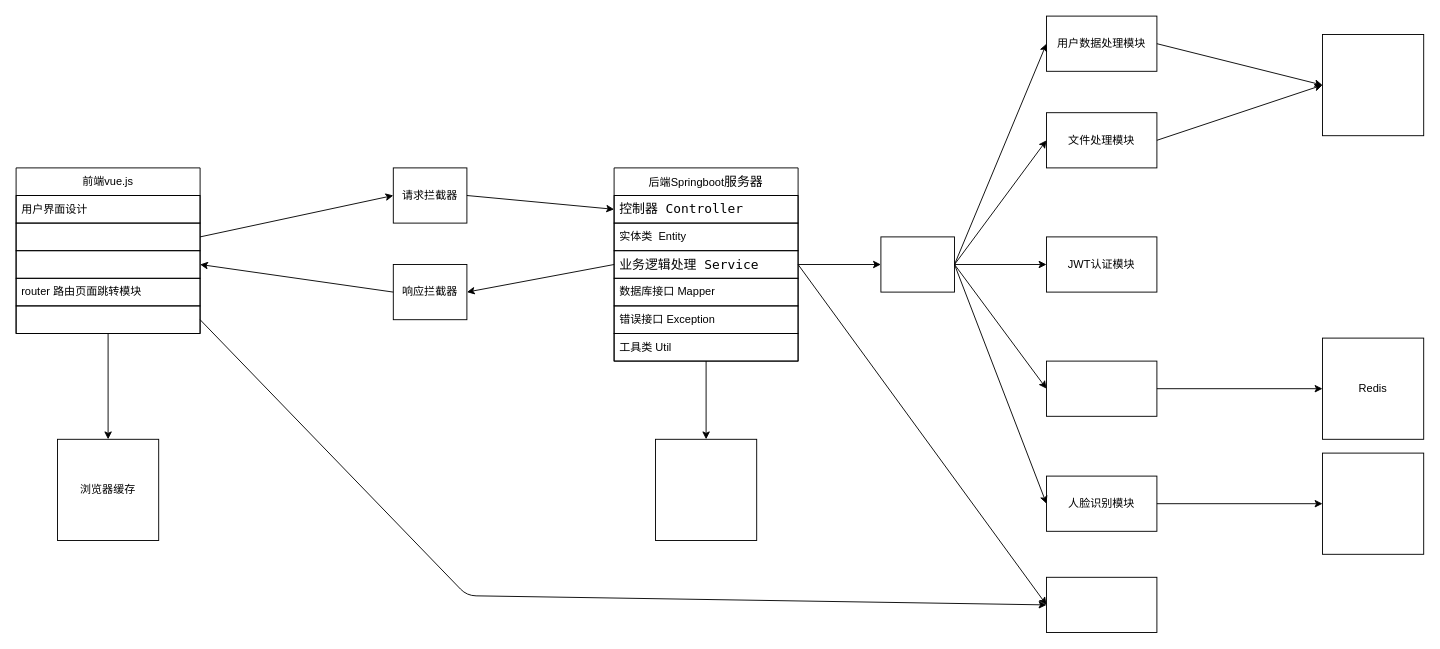
Some shapes in this 1440 by 649 pixel diagram are drawn without their labels. Each missing label, with the box of its shape:
axios 网络请求模块: (15, 250, 200, 278)
element ui: (15, 222, 200, 251)
MYSQL: (1322, 34, 1424, 136)
Redis缓存模块: (1046, 360, 1157, 416)
socket 网络通信模块: (15, 305, 200, 334)
socket考试通讯模块: (1046, 576, 1157, 632)
前置拦截器: (880, 236, 954, 292)
本地缓存: (655, 438, 757, 540)
百度服务器: (1322, 452, 1424, 554)
